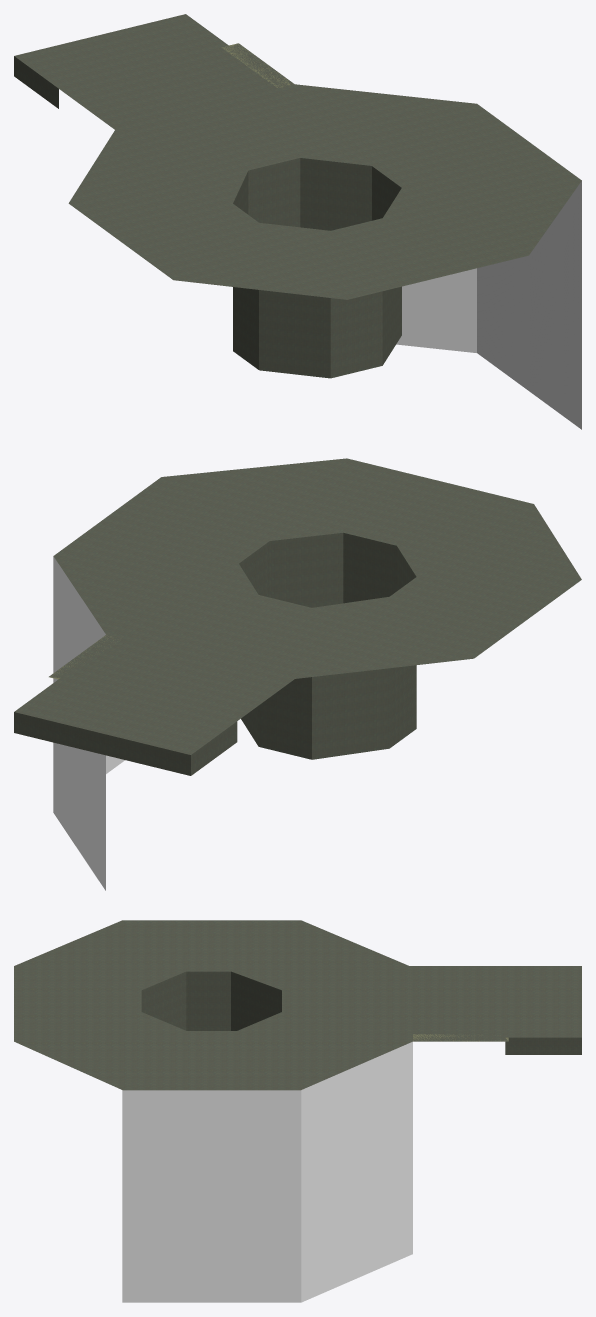
The model's file is ROOM_Elevator.fbx.
3 renders of one model, top to bottom at view 1: azimuth 30°, elevation 25°; view 2: azimuth 150°, elevation 25°; view 3: azimuth 270°, elevation 25°, orthographic. The views are drawn at different scales.
Parts seen in each view (by area): view 1: ROOM_Elevator; view 2: ROOM_Elevator; view 3: ROOM_Elevator.
Part boxes in pixels (x1,y1,x2,y2): ROOM_Elevator: (14,14,581,429); ROOM_Elevator: (14,458,581,890); ROOM_Elevator: (14,920,581,1302).
Bounding box in the file's own units: 3150 × 1838 × 4450.
